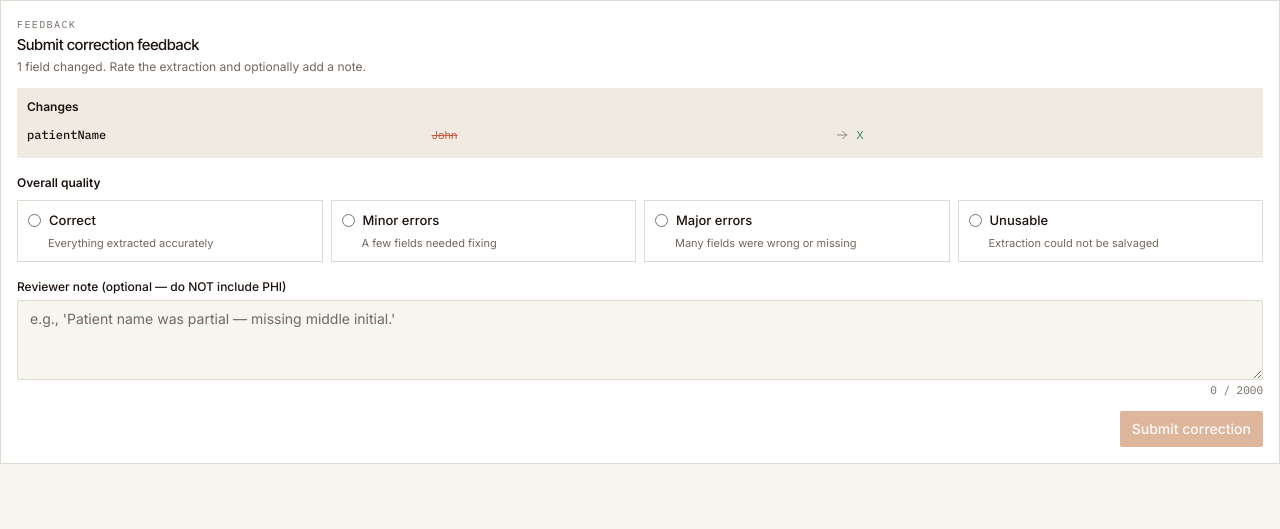
Scenario: ExtractionCorrectionPanel › shows API error message on submit failure
Click the text "Correct" at point(72, 221), box [49,211,96,230]
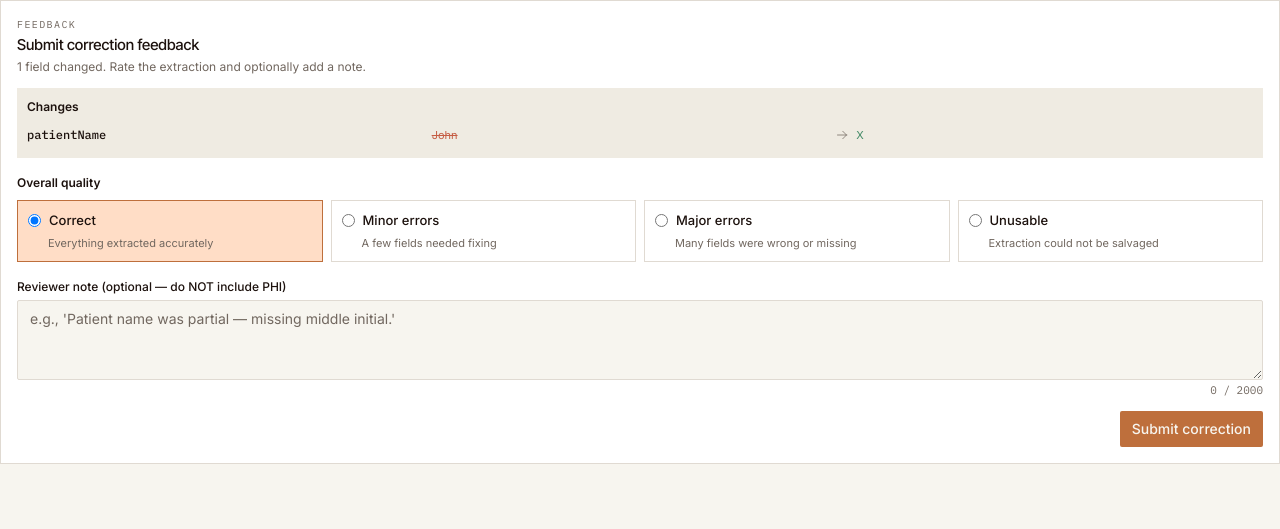
Click the button "Submit correction" at point(1191, 428), box [1120,410,1263,446]
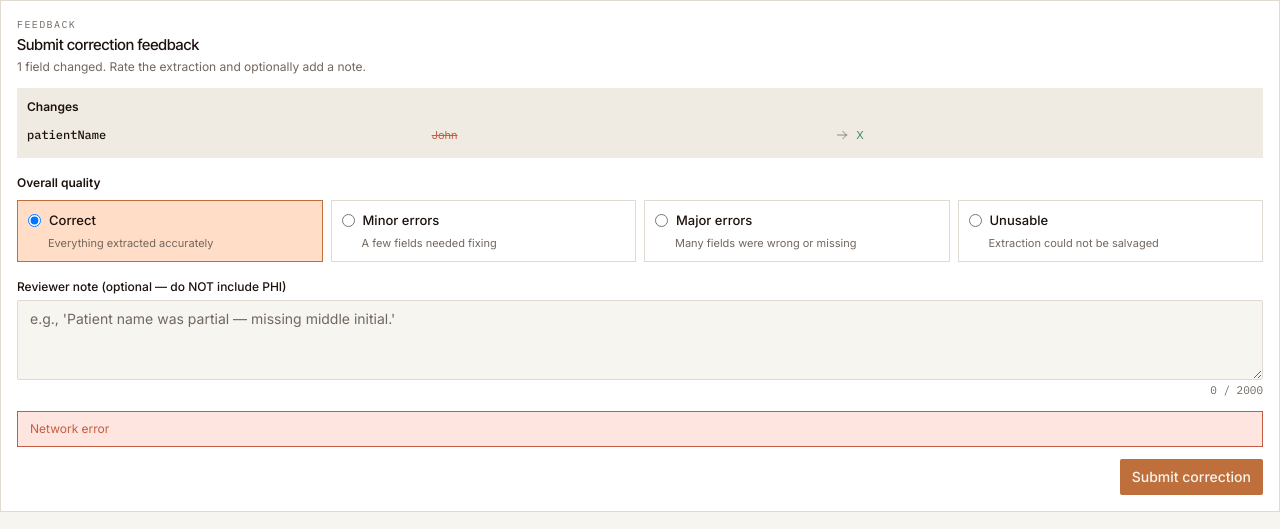
Check: the text "Network error" is shown, box [17,410,1263,446]
